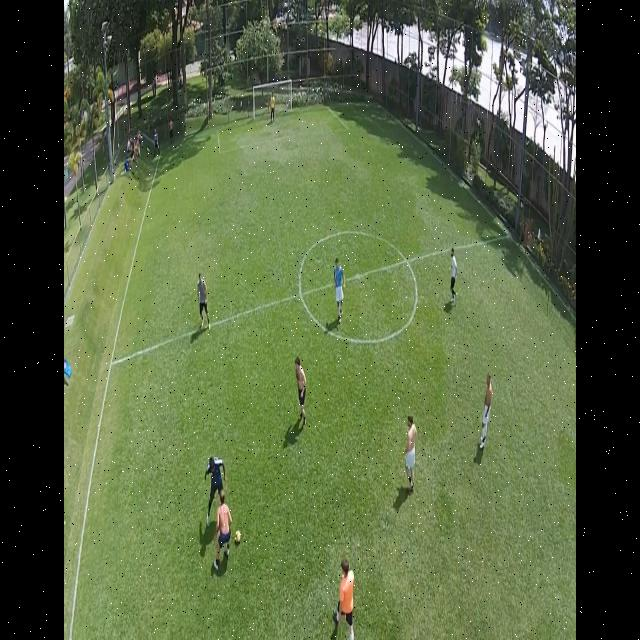humans: (331, 547, 357, 639), (211, 485, 231, 581), (400, 406, 420, 498), (476, 363, 494, 462), (291, 350, 310, 429), (195, 266, 212, 346), (331, 252, 348, 326), (203, 448, 228, 492), (447, 239, 460, 307), (266, 88, 277, 126)
